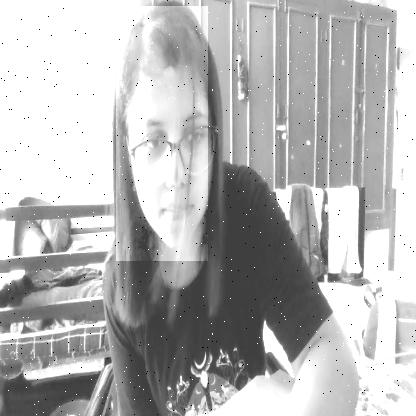Normal: (116, 6, 208, 261)
